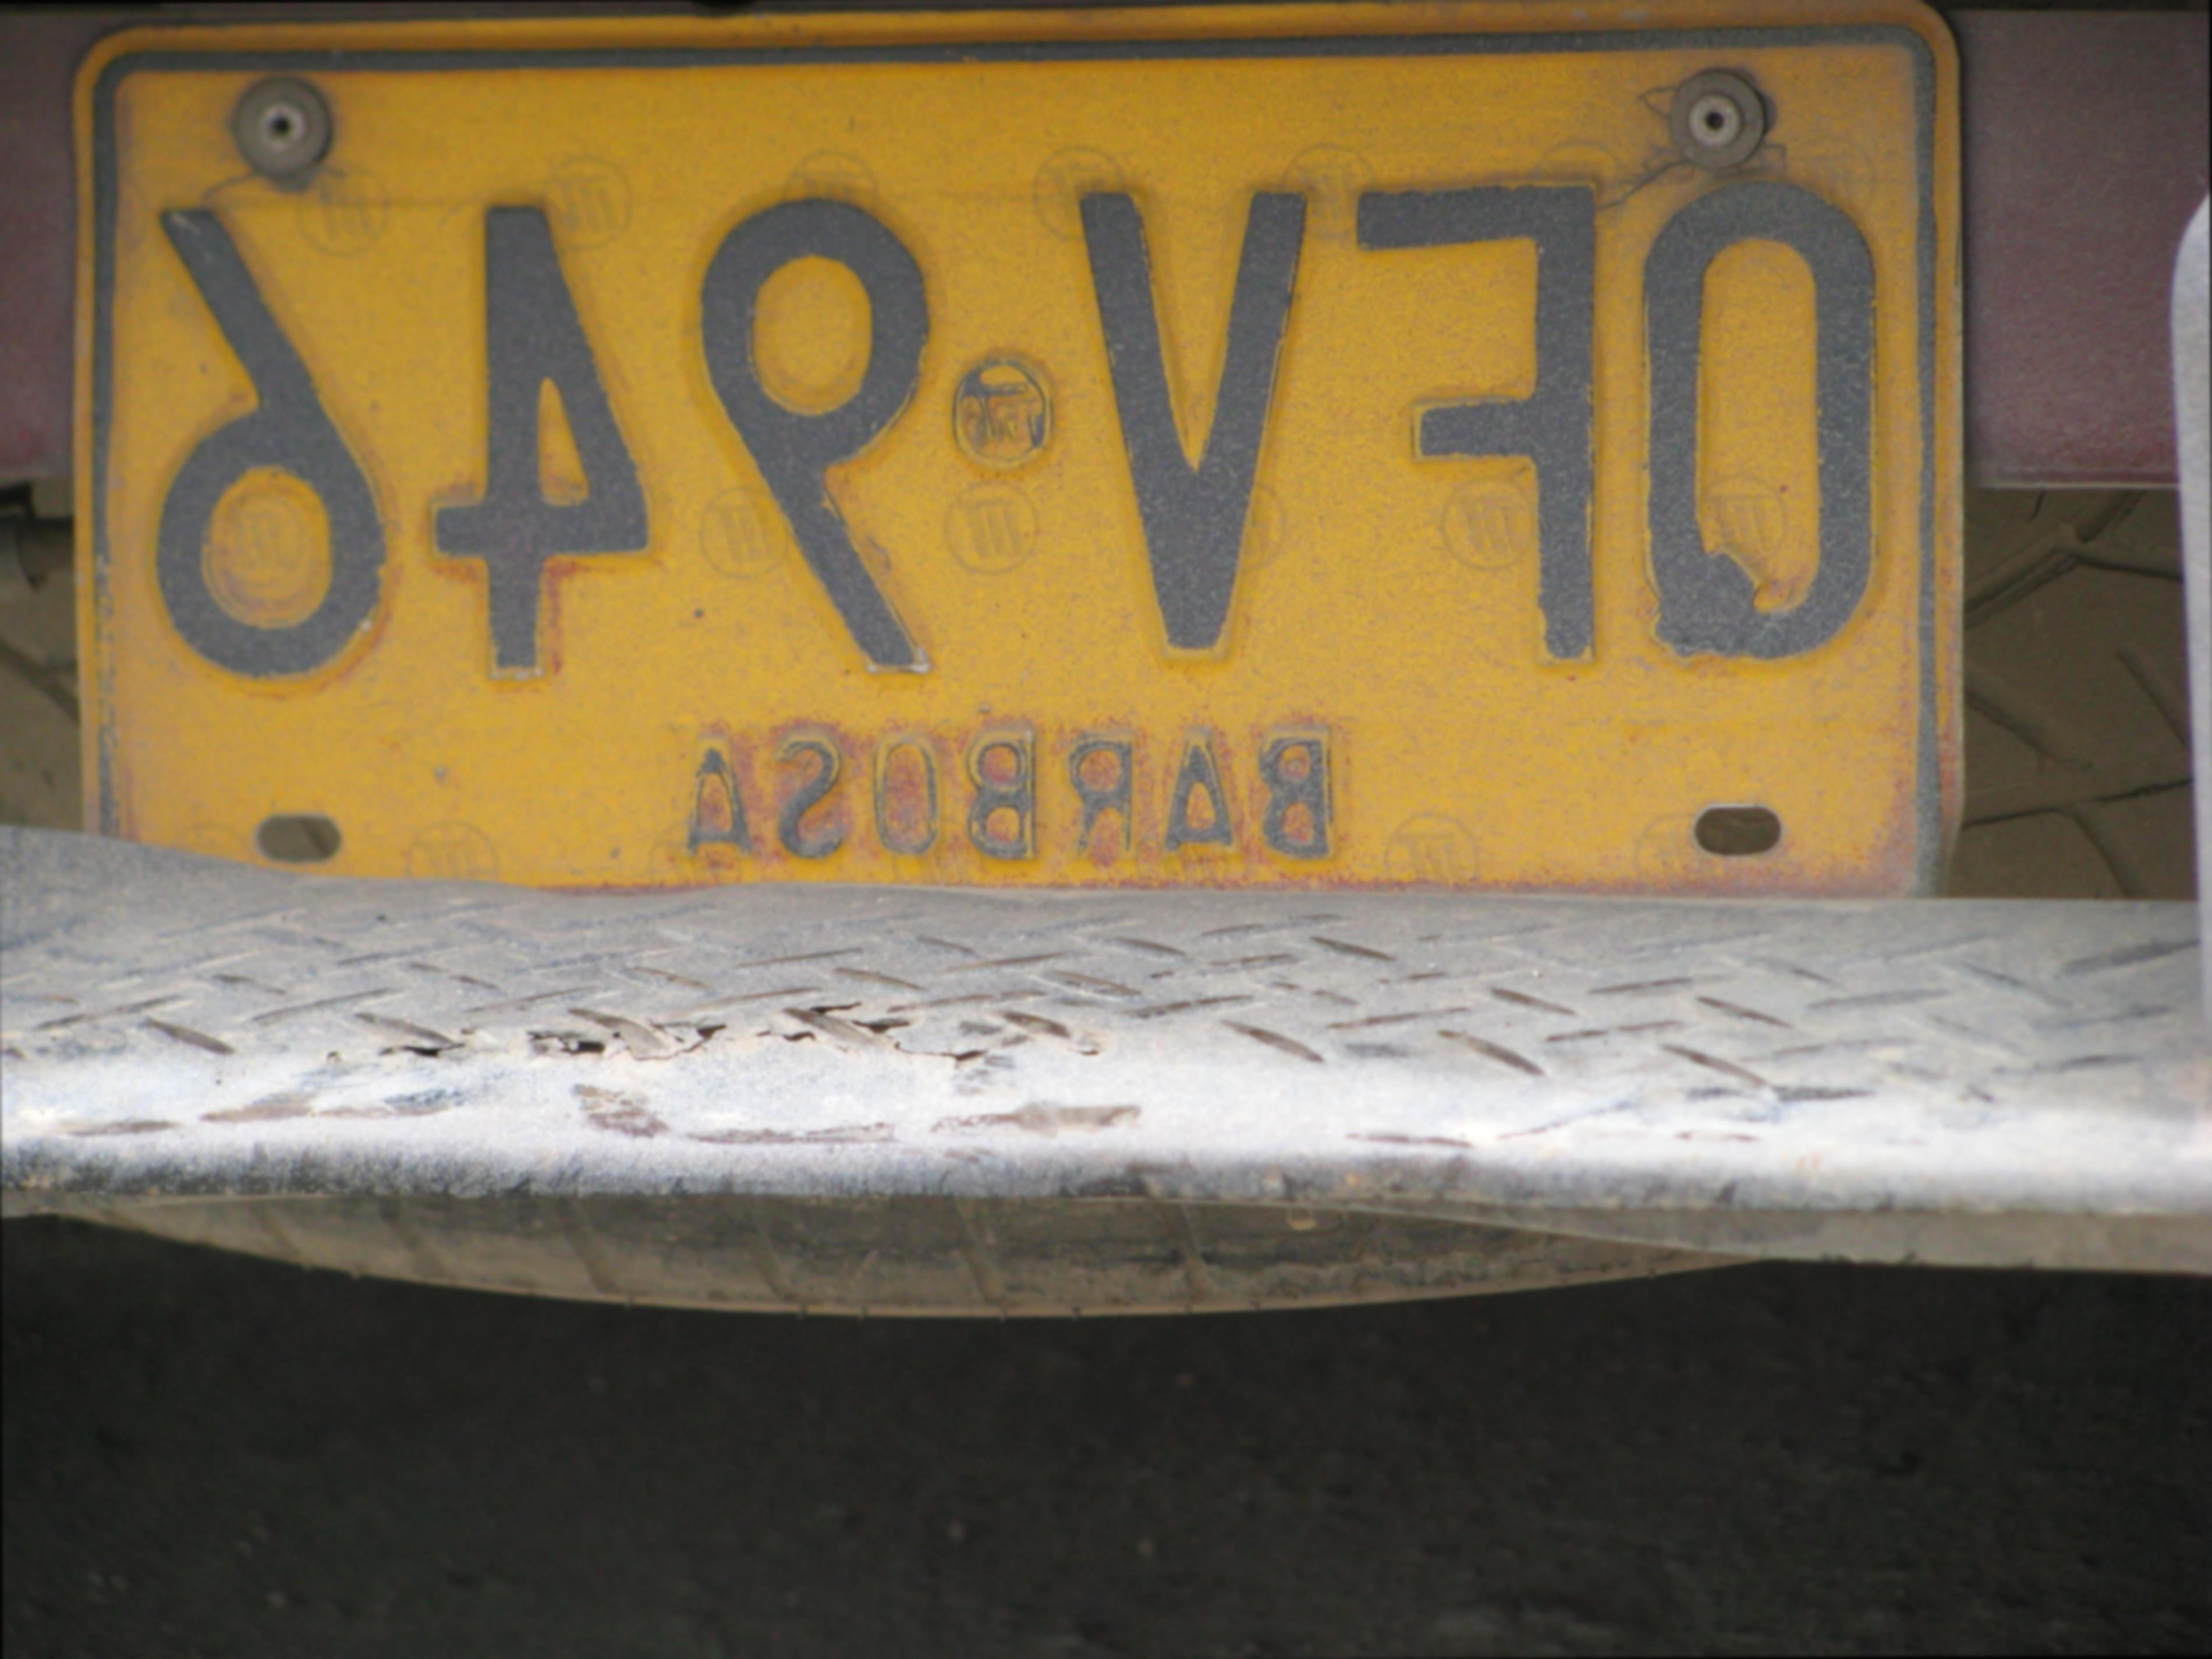placas: (67, 3, 1973, 927)
